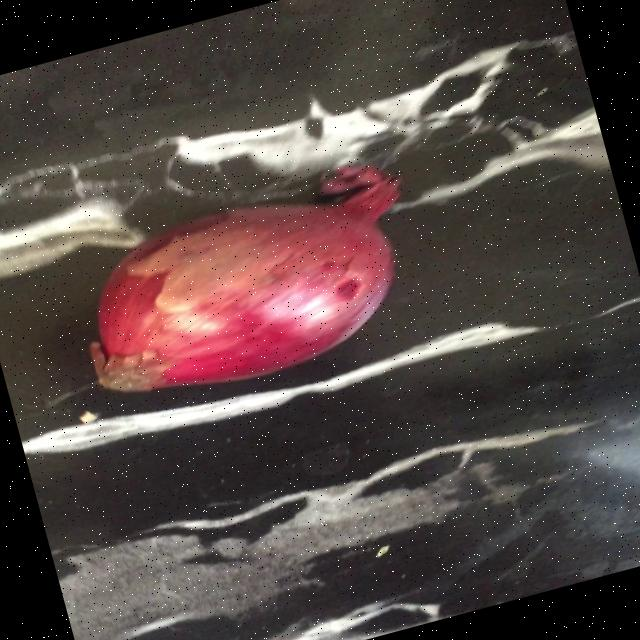Onion: (88, 165, 398, 392)
